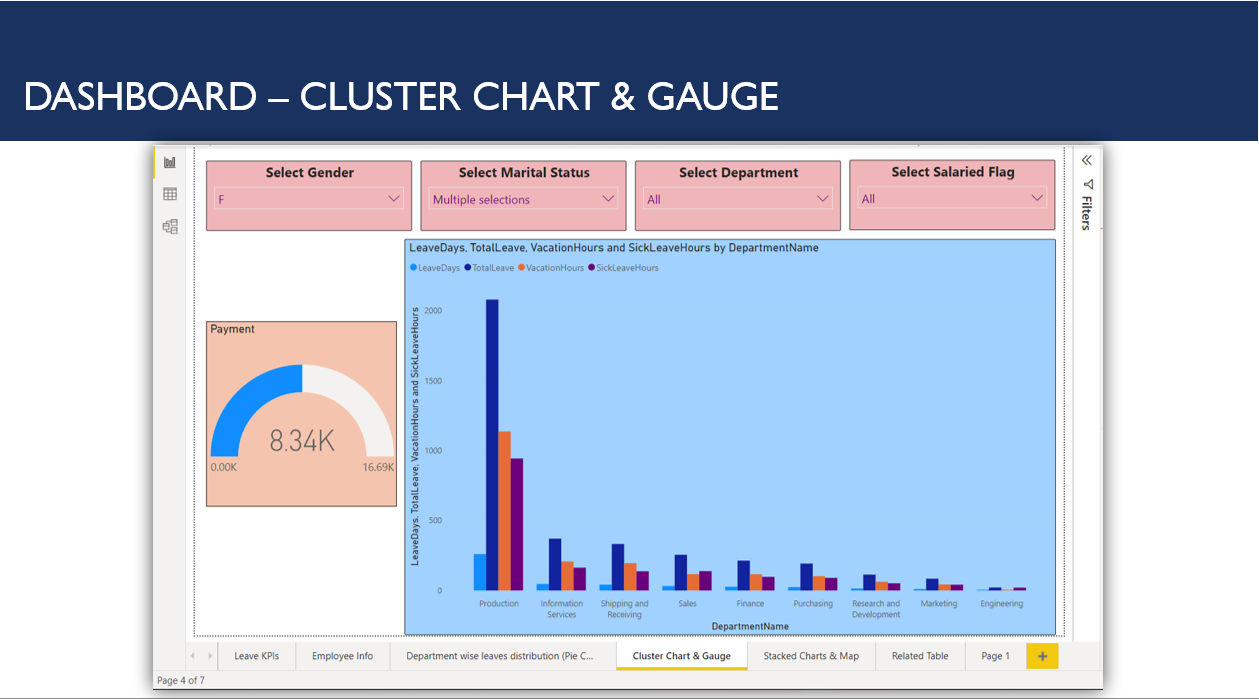

What the dashboard file says about the page in this screenshot:
{"tool":"powerbi","page":{"name":"Cluster Chart & Gauge","canvas":[1280,720],"ordinal":3},"visuals":[{"type":"clusteredColumnChart","fields":{"Category":["DimEmployee.DepartmentName"],"Y":["Sum(DimEmployee.LeaveDays)","Sum(DimEmployee.TotalLeave)","Sum(DimEmployee.VacationHours)","Sum(DimEmployee.SickLeaveHours)"]},"box":[308.4,136.4,959.6,583.6],"z":0},{"type":"slicer","title":"Select Gender","fields":{"Values":["DimEmployee.Gender"]},"box":[16.9,21,303.4,103.6],"z":1000},{"type":"slicer","title":"Select Marital Status","fields":{"Values":["DimEmployee.Maritial Status"]},"box":[332.3,21,303.4,103.6],"z":2000},{"type":"slicer","title":"Select Department","fields":{"Values":["DimGeography.City"]},"box":[649,21,303.4,103.6],"z":3000},{"type":"slicer","title":"Select Salaried Flag","fields":{"Values":["DimEmployee.SalariedFlag"]},"box":[964.5,20.5,303.4,103.6],"z":4000},{"type":"gauge","fields":{"Y":["Sum(DimEmployee.Payment)"]},"box":[16.6,257.4,281.1,272.8],"z":5000}]}

Visuals, with their boxes on the page's 1280x720 design canvas (x1, y1, x2, y2). These are canvas units, not pixel positions in the 1259x699 screenshot, which may show the page scaled, cropped or inside an application window:
clusteredColumnChart - DimEmployee.DepartmentName x Sum(DimEmployee.LeaveDays): (left=308, top=136, right=1268, bottom=720)
"Select Gender" slicer: (left=17, top=21, right=320, bottom=125)
"Select Marital Status" slicer: (left=332, top=21, right=636, bottom=125)
"Select Department" slicer: (left=649, top=21, right=952, bottom=125)
"Select Salaried Flag" slicer: (left=964, top=20, right=1268, bottom=124)
gauge - Sum(DimEmployee.Payment): (left=17, top=257, right=298, bottom=530)
